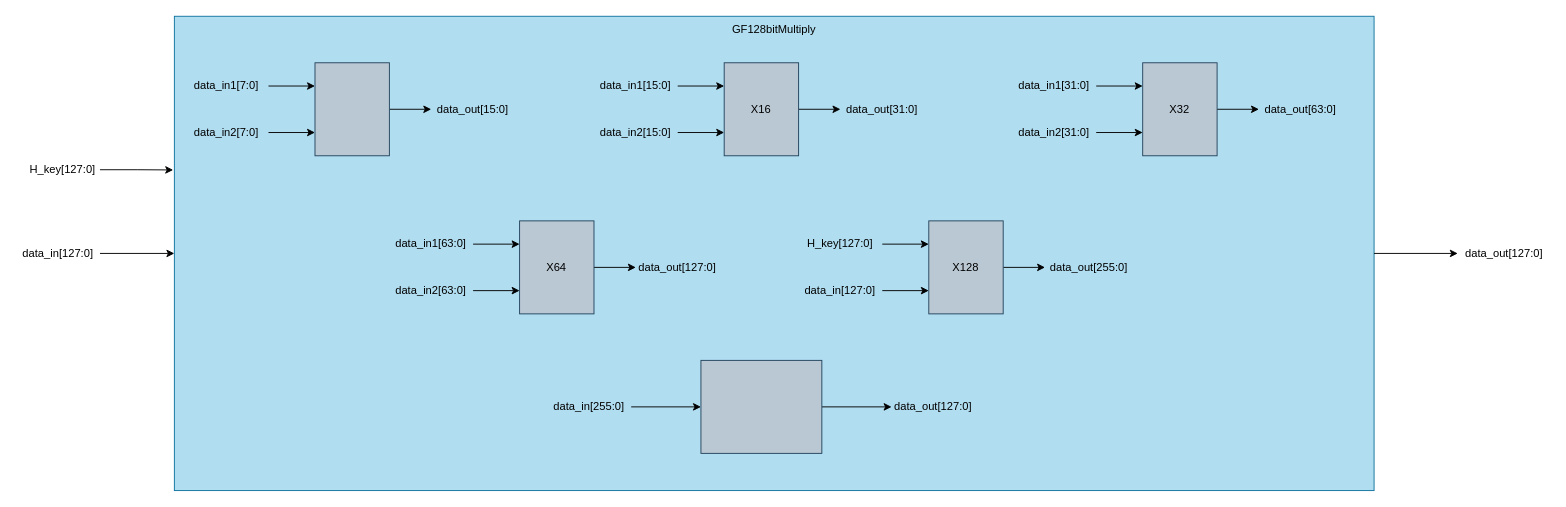
The diagram is 1566 pixels wide and 507 high, and some of its shapes have lost their labels. The shapes that lost their labels are listed below. From the top down, each one's centre as x and y in pixels, then its label:
the point at 351,109: X8
the point at 761,406: ReductionBlock
